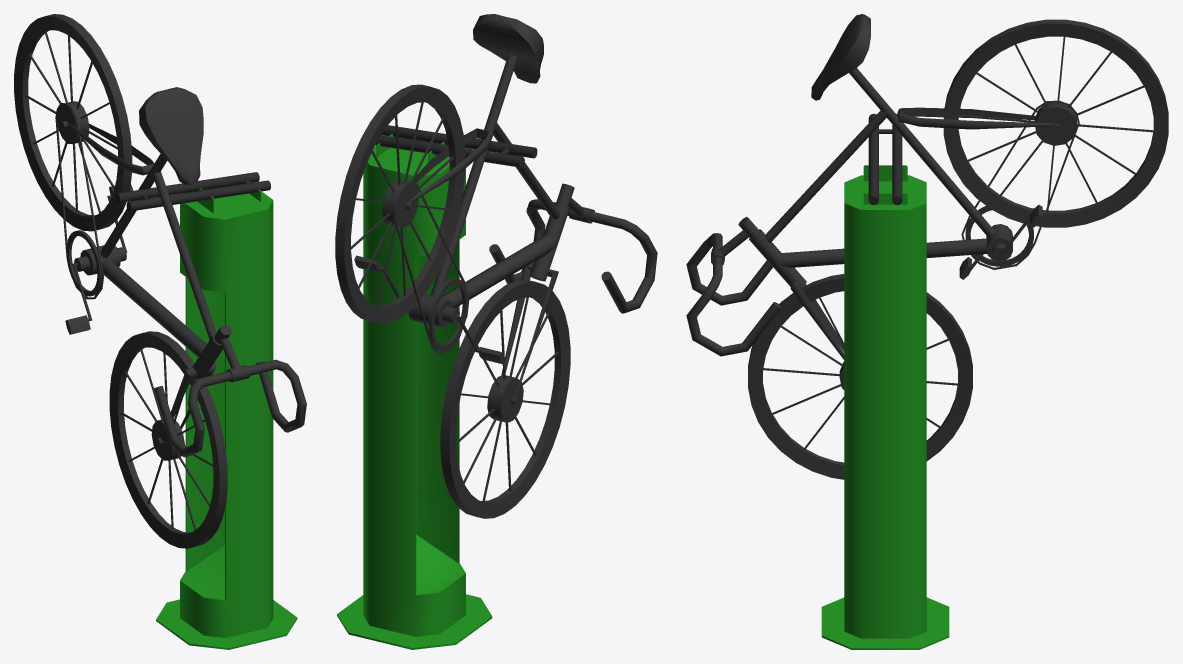
The picture shows the model from 3 angles, left to right: view 1: azimuth 30°, elevation 25°; view 2: azimuth 150°, elevation 25°; view 3: azimuth 270°, elevation 25°; orthographic projection. The views are drawn at different scales.
Visible parts, largest first — view 1: SM_542; view 2: SM_542; view 3: SM_542.
Part boxes in pixels (x1,y1,x2,y2): SM_542: (14, 14, 306, 649); SM_542: (335, 14, 657, 649); SM_542: (686, 14, 1168, 649).
Size of the model in its own units: 0.6477 by 1.92 by 1.47.
